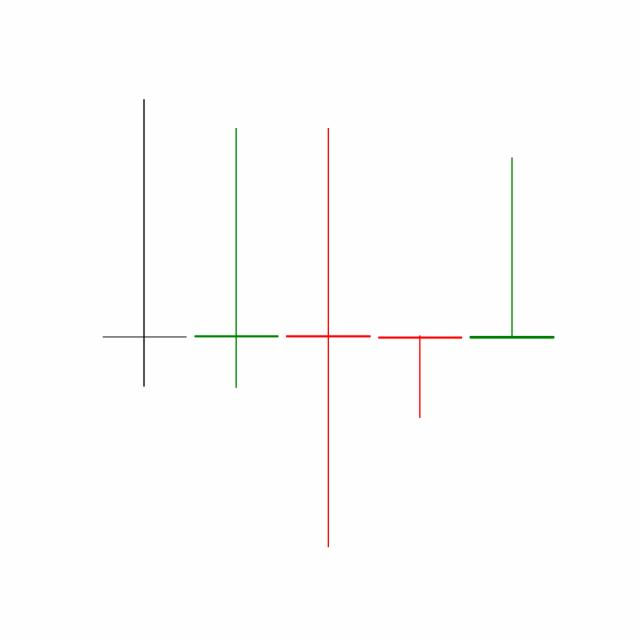Gravestone Doji: (464, 155, 558, 340)
